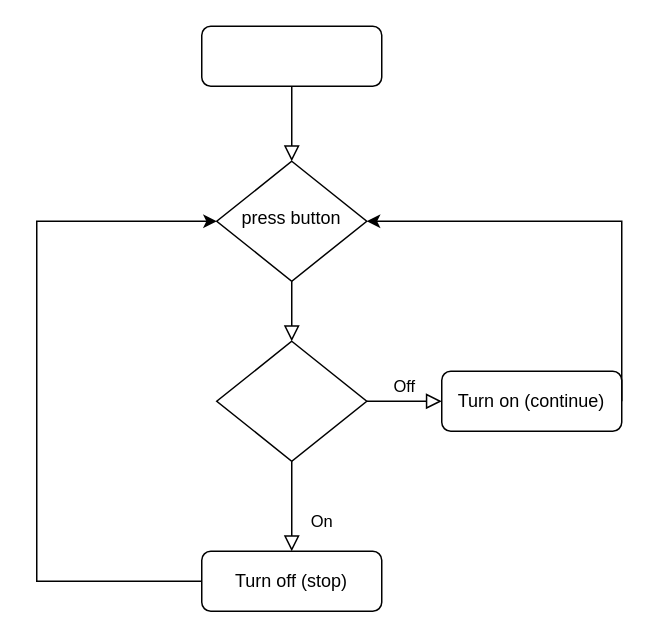
Image size: 660x638. Some labels were removed from this diagram. The centre of each missing label's shape, as x and y in pixels:
"On or Off" belongs at pixel 291 400.
"Start" belongs at pixel 291 55.
